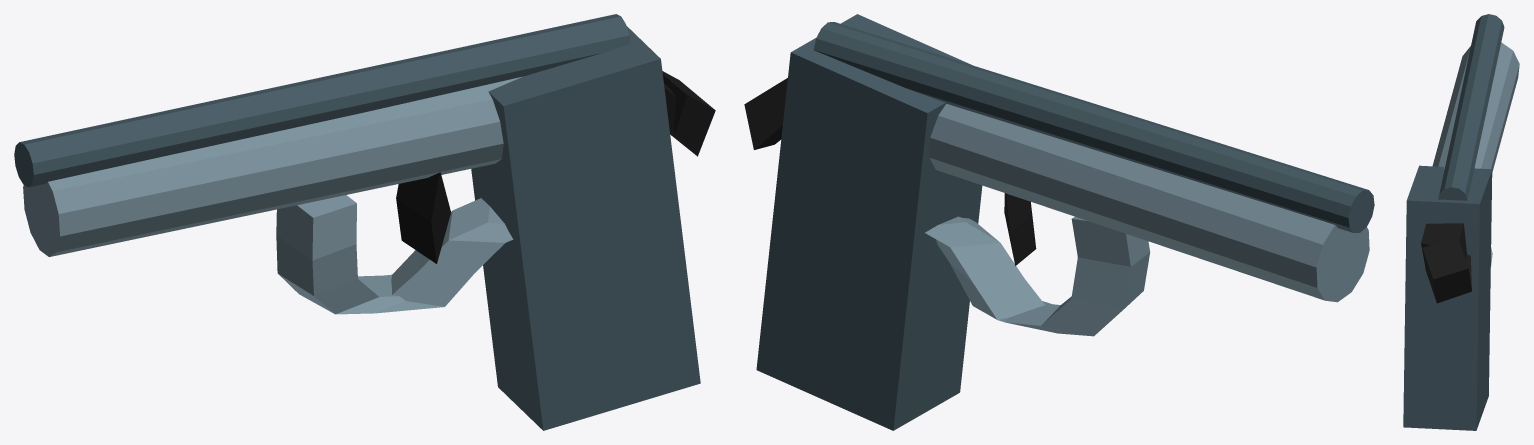
3 renders of one model, left to right at view 1: azimuth 30°, elevation 25°; view 2: azimuth 150°, elevation 25°; view 3: azimuth 270°, elevation 25°, orthographic. The views are drawn at different scales.
Parts seen in each view (by area): view 1: mesh_438136926, group_1262090193, group_1796314545, group_134823438, group_2097782081; view 2: mesh_438136926, group_1262090193, group_1796314545, group_2097782081, group_134823438; view 3: mesh_438136926, group_1262090193, group_2097782081.
Boxes of the visible parts, x1,y1,x2,y2 form: mesh_438136926: [471, 26, 700, 430]; group_1262090193: [14, 14, 630, 256]; group_1796314545: [276, 195, 513, 314]; group_134823438: [396, 172, 450, 263]; group_2097782081: [662, 71, 715, 156]; mesh_438136926: [756, 14, 982, 430]; group_1262090193: [813, 22, 1374, 302]; group_1796314545: [925, 216, 1150, 336]; group_2097782081: [744, 78, 787, 149]; group_134823438: [1004, 193, 1036, 265]; mesh_438136926: [1403, 165, 1492, 430]; group_1262090193: [1432, 14, 1519, 200]; group_2097782081: [1421, 223, 1471, 303].
Size of the model in its own units: 65 by 35.22 by 15.55.
